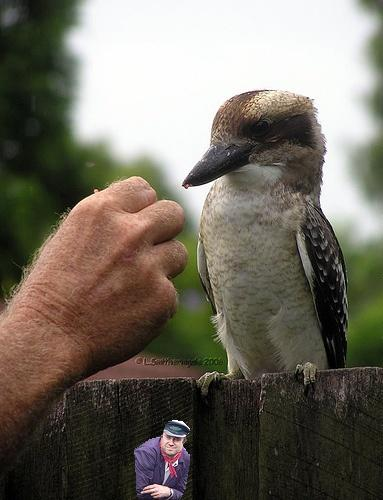tampered: (135, 421, 190, 500)
